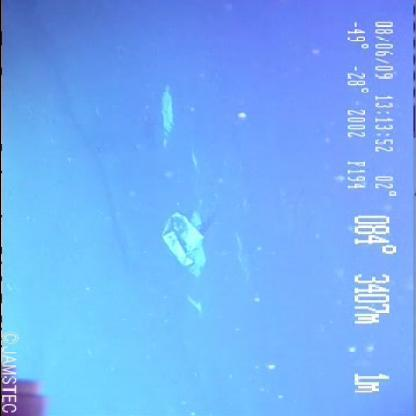Rác: (158, 204, 211, 322)
